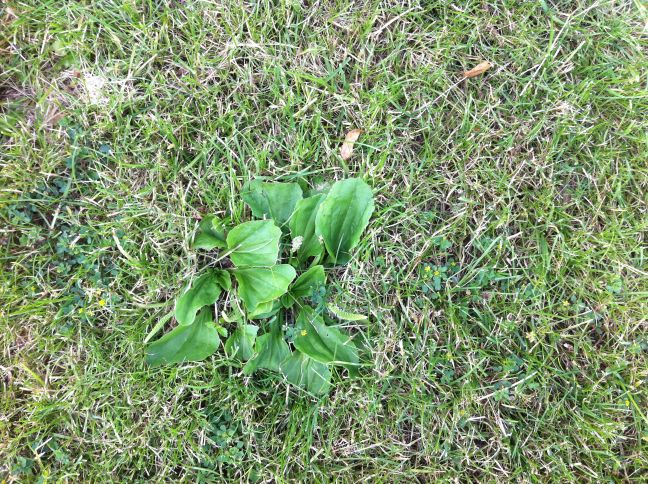weed1: (138, 169, 377, 395)
